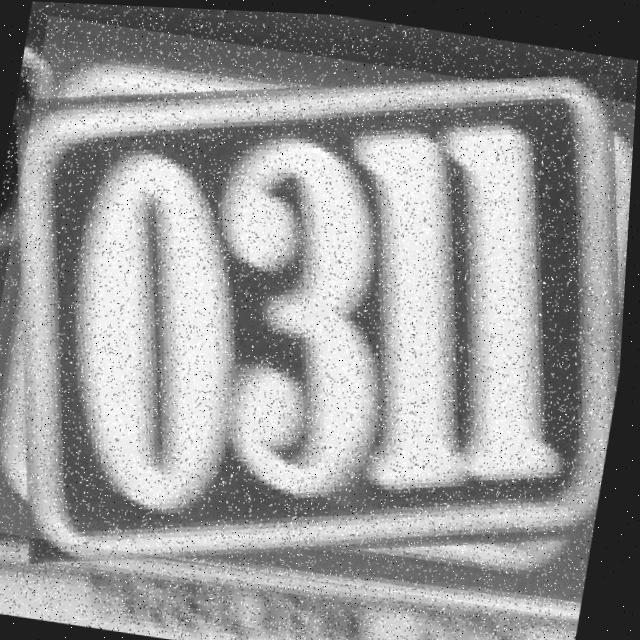LicensePlate: (0, 13, 639, 614)
